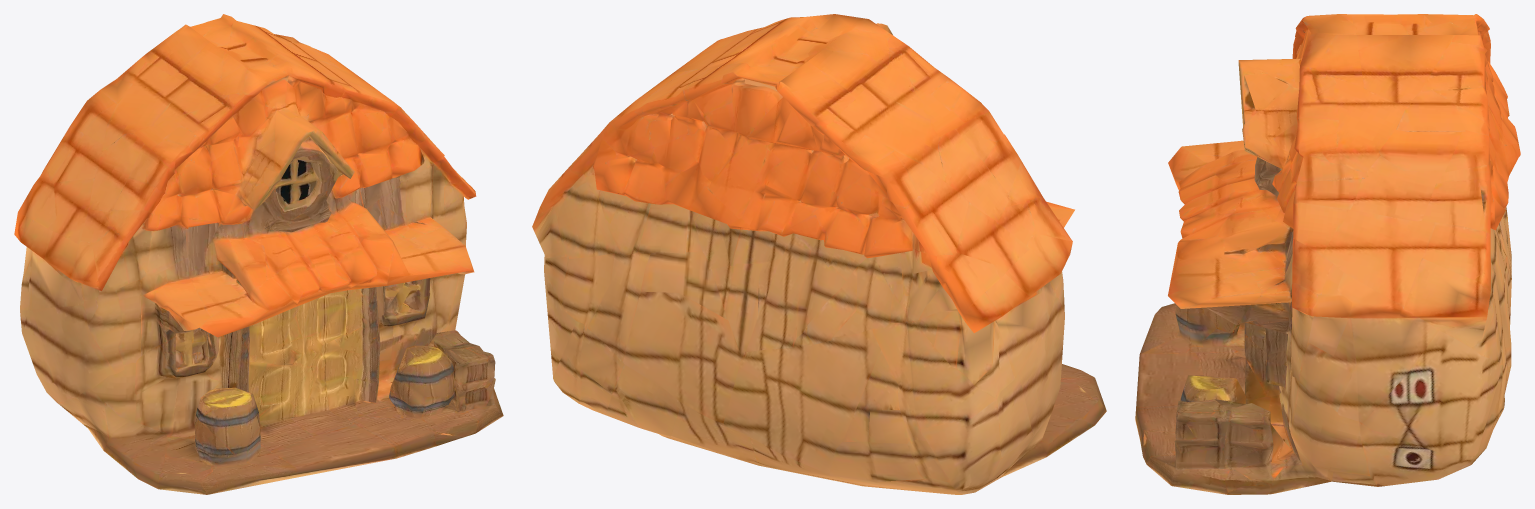
File: storage.glb
The picture shows the model from 3 angles, left to right: view 1: azimuth 30°, elevation 25°; view 2: azimuth 150°, elevation 25°; view 3: azimuth 270°, elevation 25°; orthographic projection. The views are drawn at different scales.
Size of the model in its own units: 1.89 by 1.54 by 1.43.
1 material, 1 textured.
